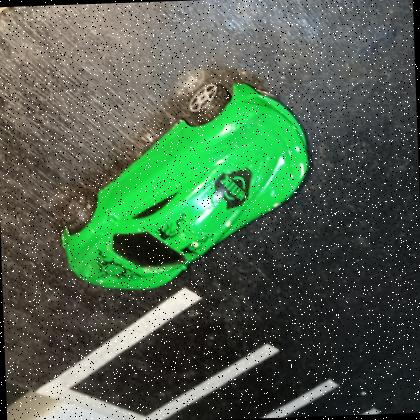Car: (61, 81, 311, 290)
